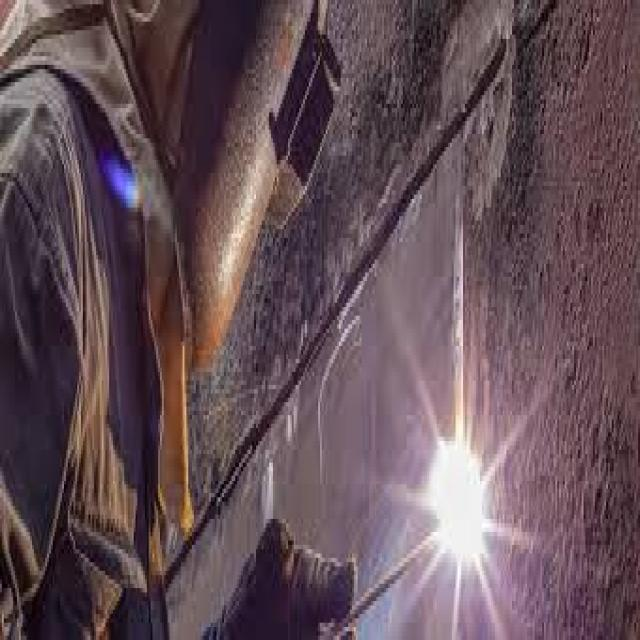welding: (430, 442, 479, 565)
